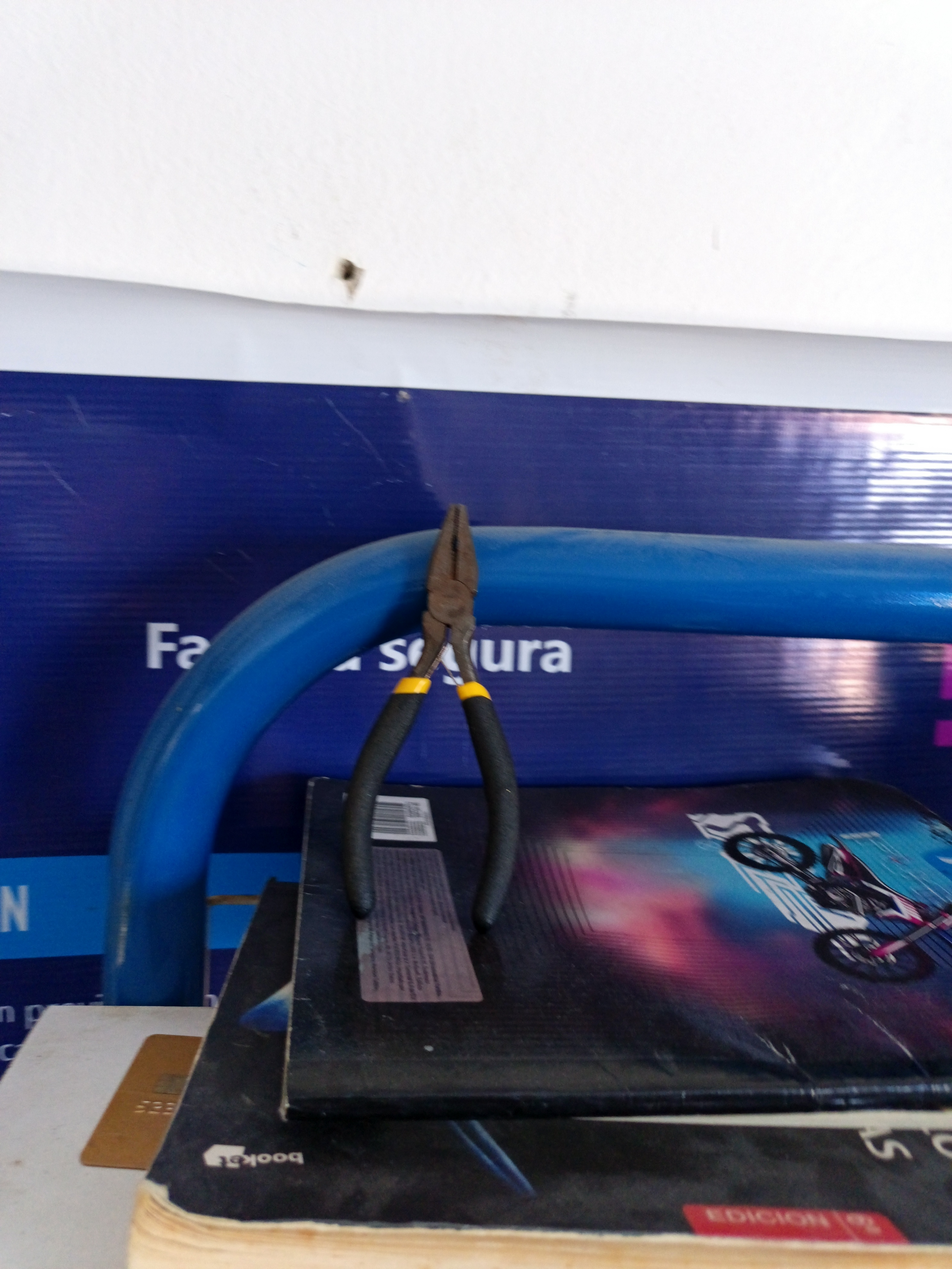Pinzas: (343, 504, 519, 930)
